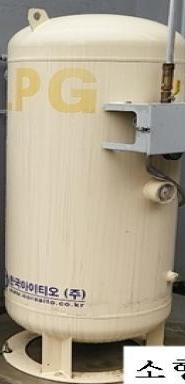cylinder: (1, 1, 185, 384)
